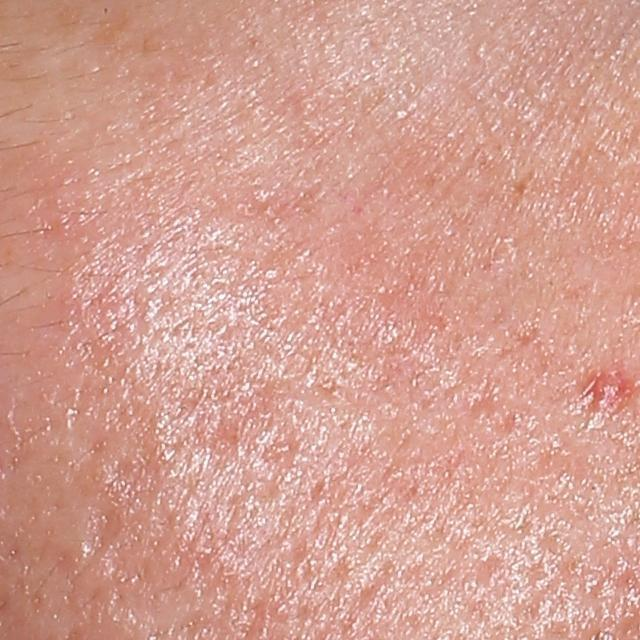atrophic_scar: (83, 495, 130, 576)
papule: (587, 364, 634, 404)
